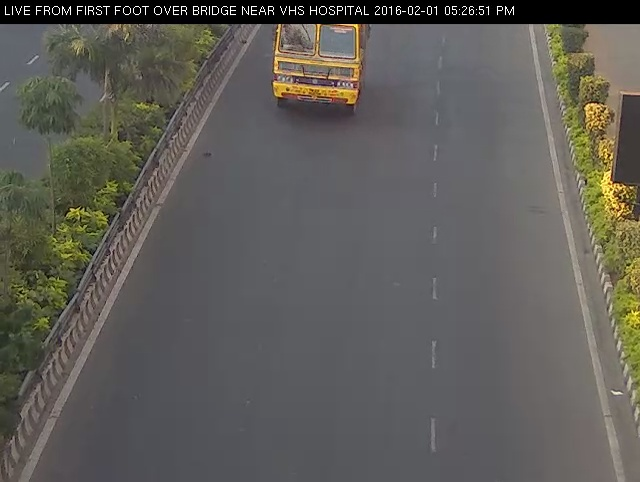Bus: (265, 22, 376, 120)
